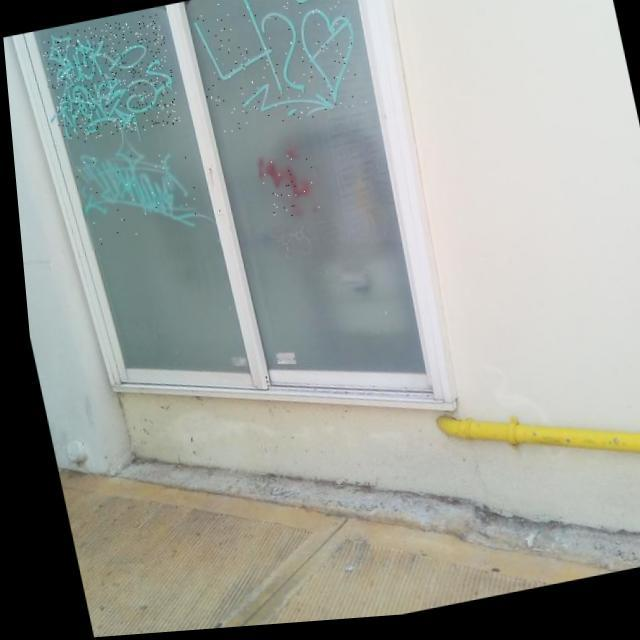-: (186, 0, 367, 140), (37, 14, 181, 148), (66, 130, 199, 252), (251, 150, 318, 225)
